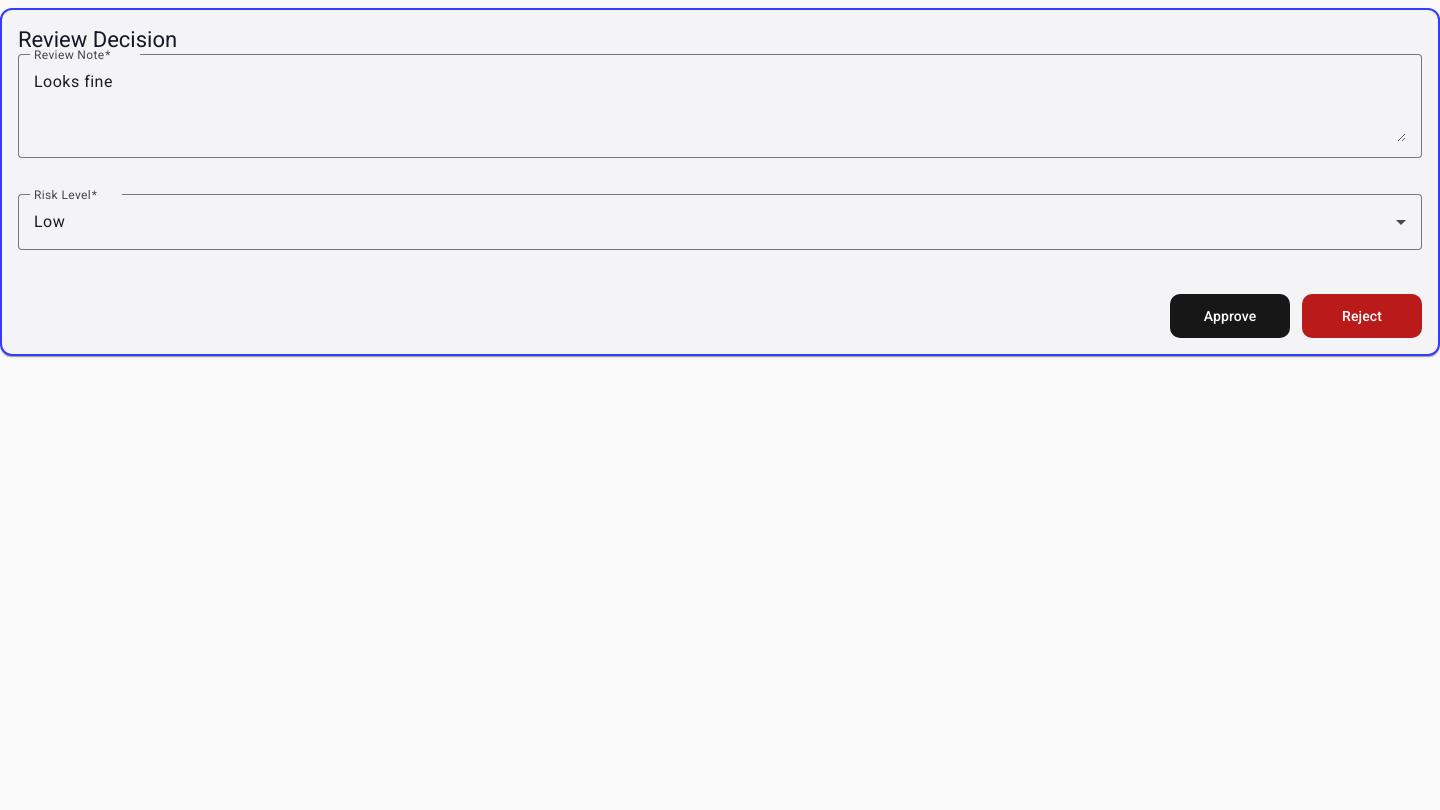
ReviewPanelComponent › returns to the buttons and shows the server message when saving fails
Click the button "Approve" at (1230, 316), box [1170,294,1290,338]
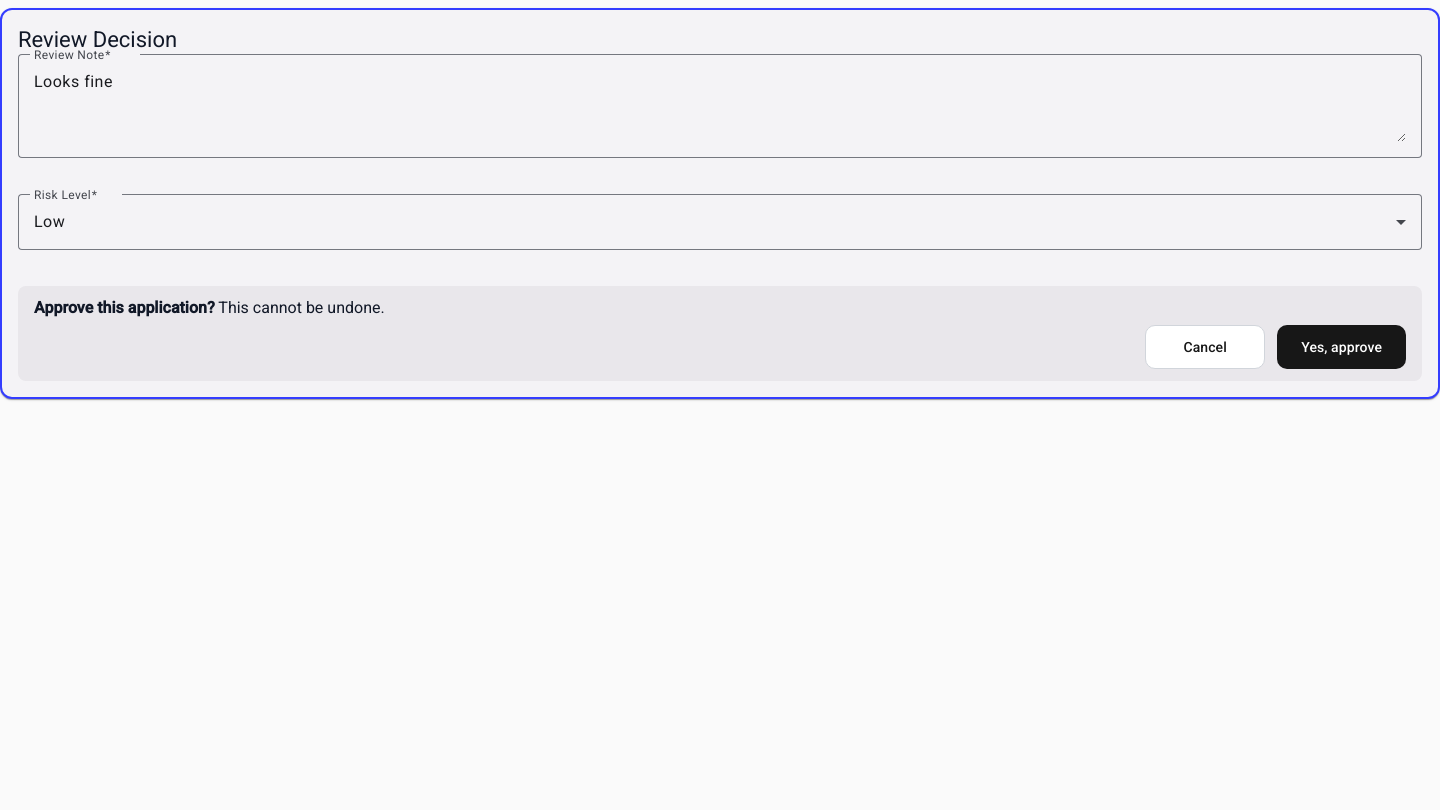
Click the button "Yes, approve" at (1342, 347), box [1277,325,1406,369]
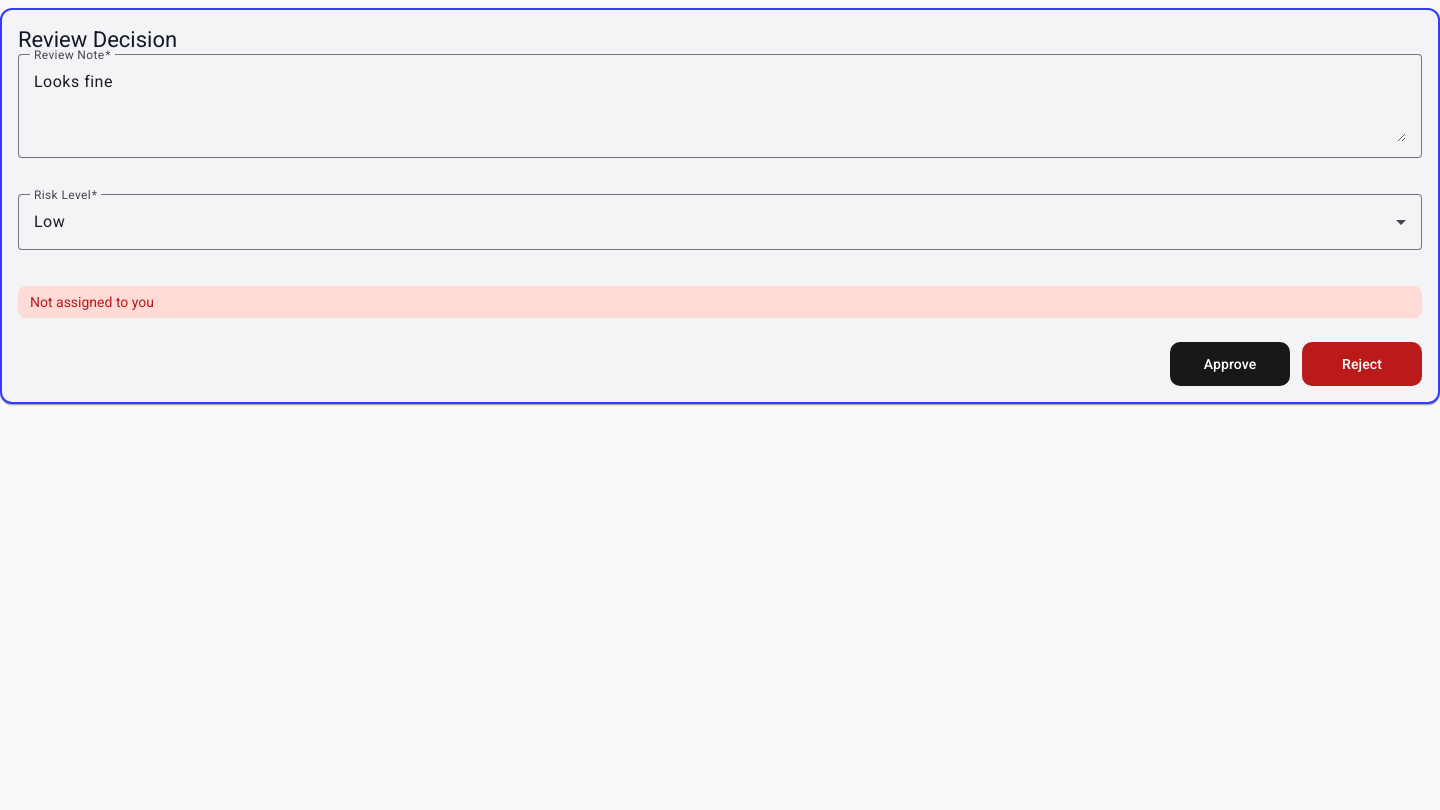
Expected: the button "Approve" is shown, [1170,342,1290,386]
Now the text "Not assigned to you" is shown, box [18,286,1422,318]
